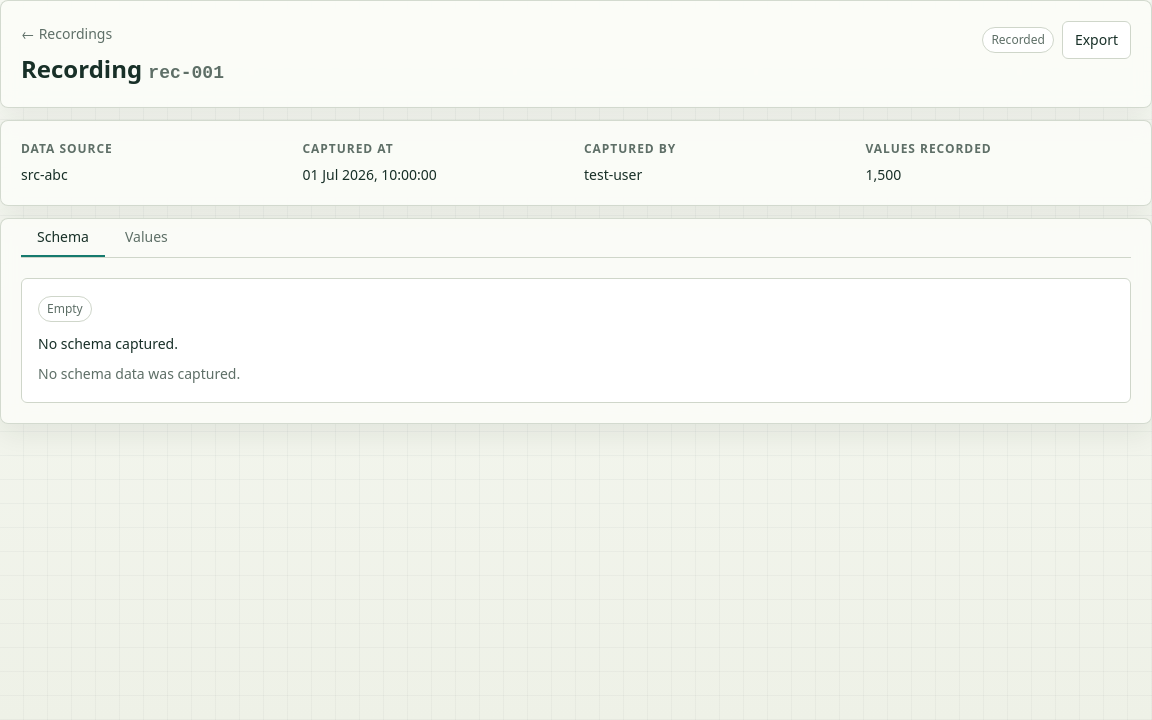
RecordingDetailPage — values tab (UI-119) › shows Load more button when nextCursor is present
Click the button "Values" at [146, 238], box [109, 219, 184, 257]
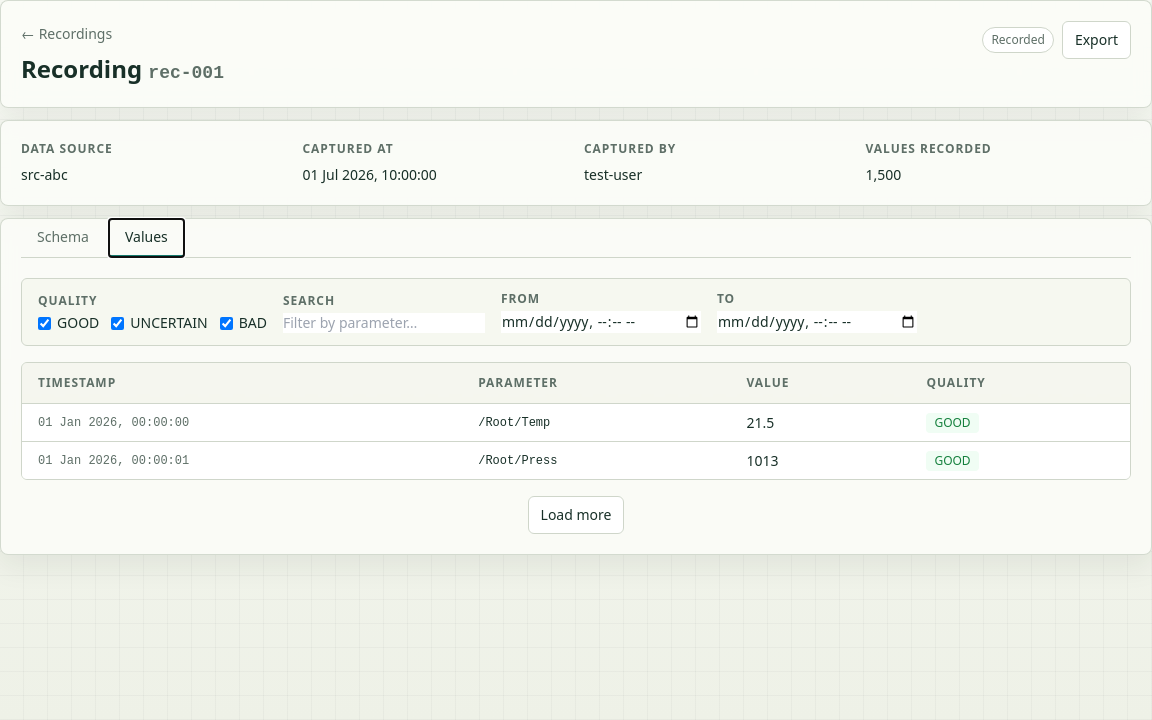
Check: the button "Load more" is shown, box [528, 496, 624, 534]
